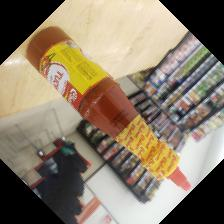Tuong: (26, 25, 192, 192)
